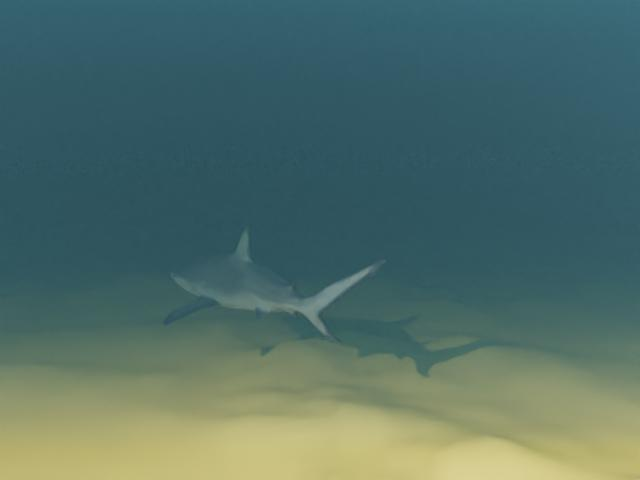Carribean Shark.001: (163, 225, 386, 343)
